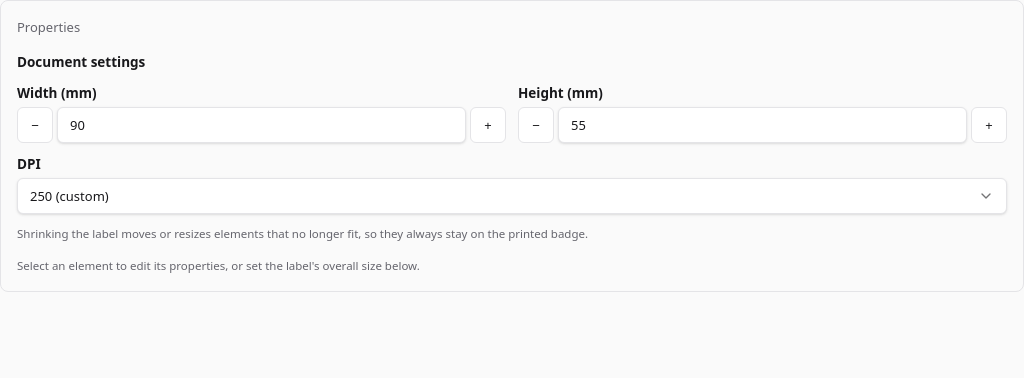
it: PropertiesPane › empty state (document settings) › shows a disabled placeholder option (not a silent fallback to 203) for a dpi outside 203/300/600
What coordinates should you click on to do the following:
click the dropdown named "DPI"
I would click on:
 (69, 196)
Its box is [17,178,1007,214].
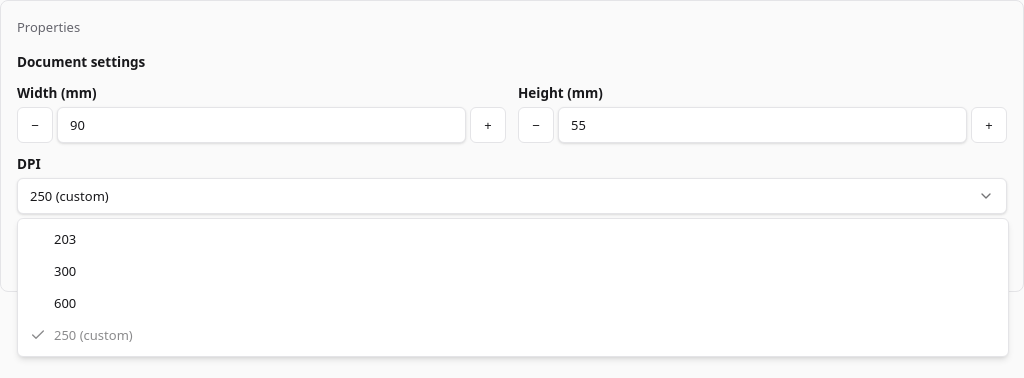
Check: the options read "203", "300", "600", "250 (custom)", in this order, box [54,230,76,248]; [54,262,76,280]; [54,294,76,312]; [30,326,133,344]
